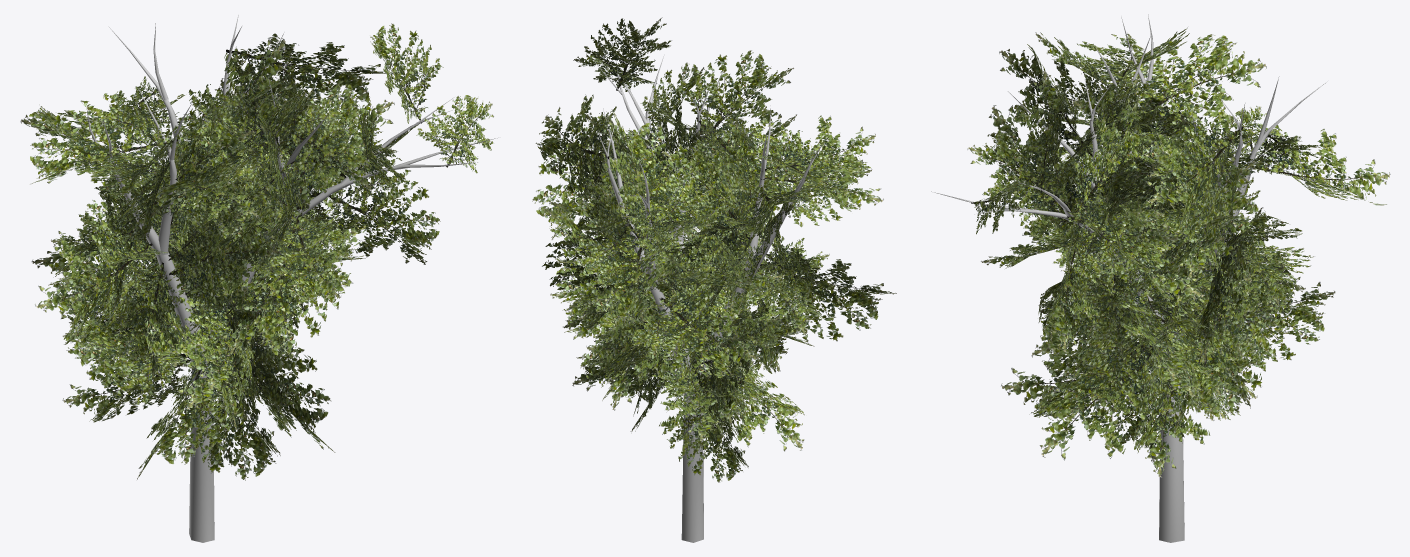
The model's file is tree3.004.fbx.
3 views of the same model, side by side, from view 1: azimuth 30°, elevation 25°; view 2: azimuth 150°, elevation 25°; view 3: azimuth 270°, elevation 25° (orthographic). The views are drawn at different scales.
Visible parts, largest first — view 1: tree3.004; view 2: tree3.004; view 3: tree3.004.
Boxes of the visible parts, bbox=[...] form: tree3.004: bbox=[20, 15, 498, 542]; tree3.004: bbox=[532, 17, 896, 542]; tree3.004: bbox=[931, 14, 1390, 542].
Size of the model in its own units: 2.37 by 2.81 by 2.28.
